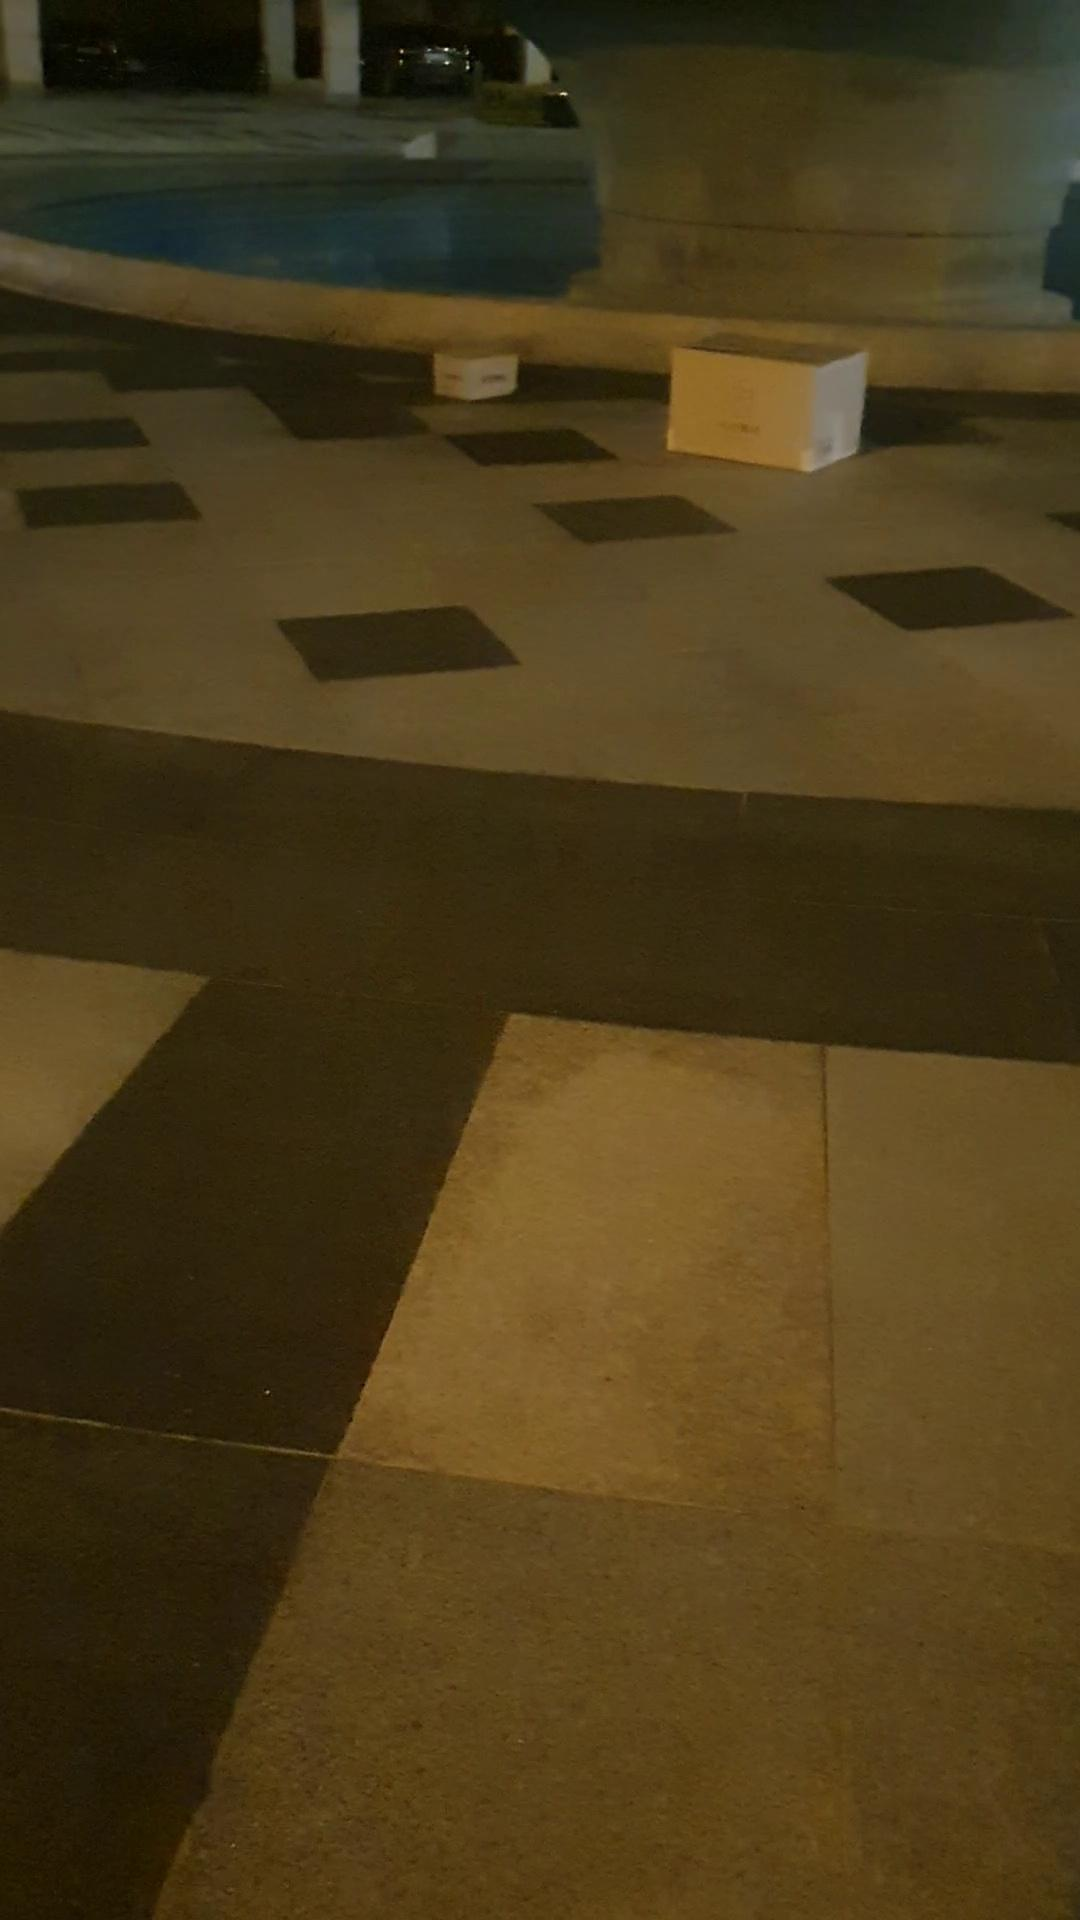Box: (646, 330, 876, 477), (423, 330, 535, 410)
